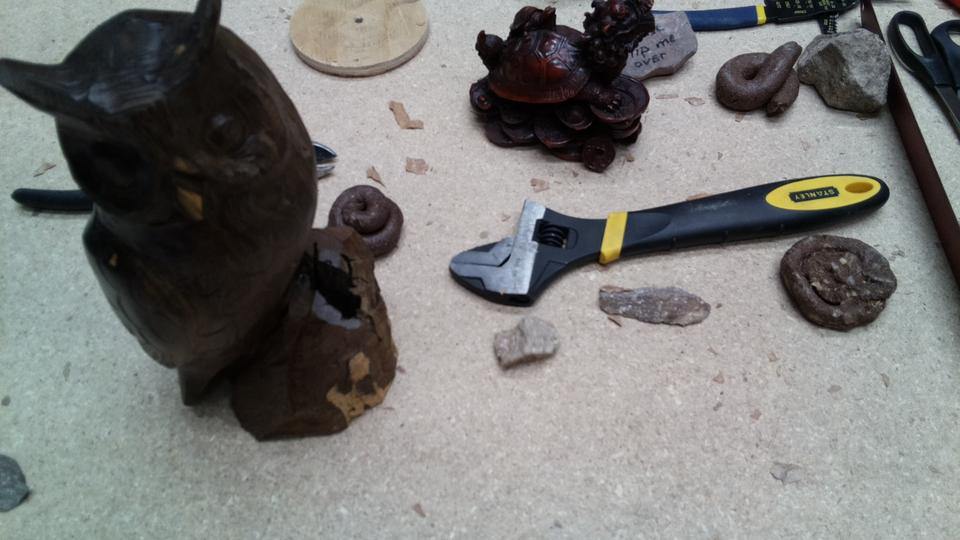poop: (775, 231, 900, 334), (710, 40, 804, 121), (325, 183, 403, 255)
